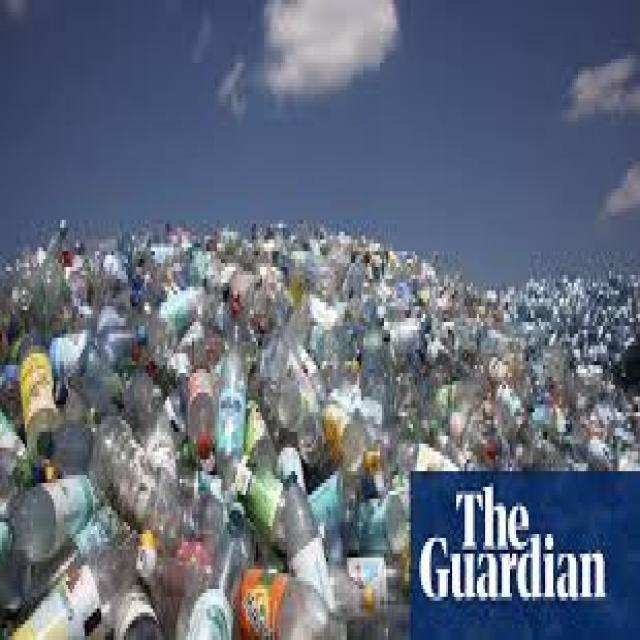heap: (1, 146, 640, 640)
plastic_bottle: (208, 327, 284, 538), (232, 547, 358, 640), (23, 470, 107, 570)
